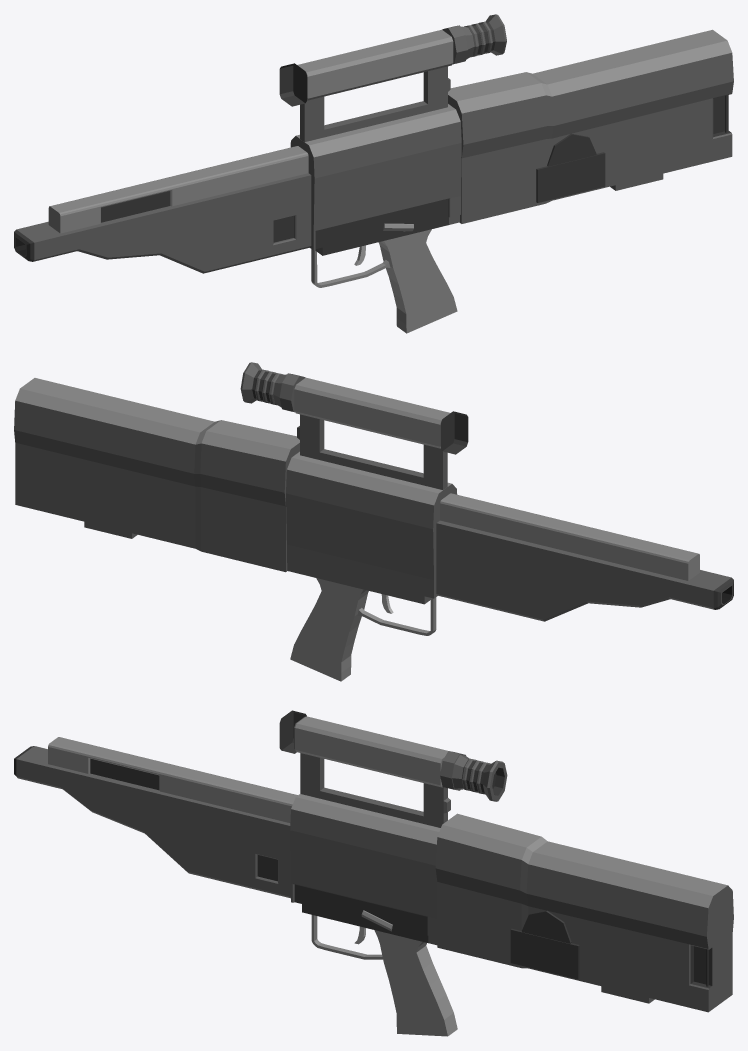
The model's file is mag7.glb.
3 views of the same model, one above another, from view 1: azimuth 30°, elevation 25°; view 2: azimuth 150°, elevation 25°; view 3: azimuth 330°, elevation 25° (orthographic).
Parts seen in each view (by area): view 1: main, mag; view 2: main, mag; view 3: main, mag.
Boxes of the visible parts, left/top/right/bottom form: main: left=14, top=14, right=733, bottom=333; mag: left=48, top=146, right=308, bottom=233; main: left=14, top=362, right=733, bottom=681; mag: left=440, top=493, right=699, bottom=580; main: left=14, top=710, right=733, bottom=1036; mag: left=48, top=737, right=297, bottom=822.
Size of the model in its own units: 1.67 by 0.6659 by 0.1138.
1 material, 1 textured.
